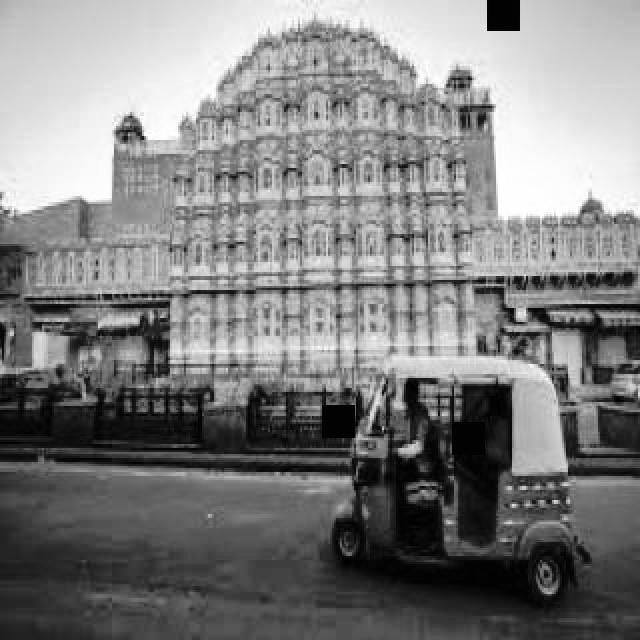Auto-Rickshaw: (346, 346, 596, 592)
